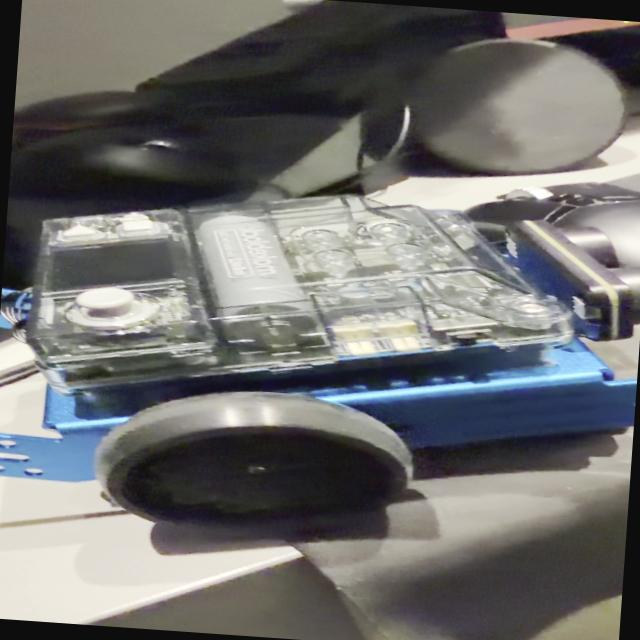mbot-detection: (0, 166, 640, 573)
